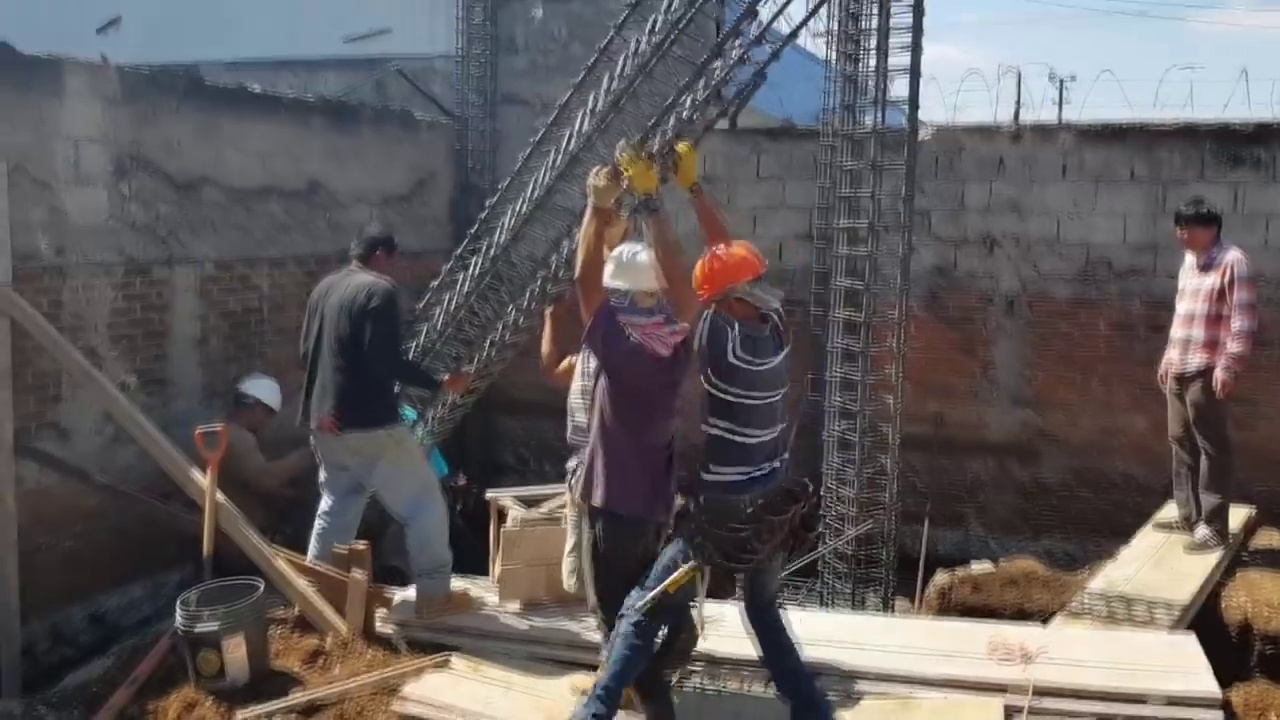helmet: (692, 240, 769, 306), (603, 240, 663, 290), (228, 380, 282, 424)
helmet-off: (348, 216, 404, 283), (1180, 198, 1230, 260)
helmet-on: (691, 241, 778, 333), (601, 240, 679, 336), (213, 378, 284, 441)
person: (577, 236, 835, 720), (558, 158, 704, 720), (297, 213, 456, 623), (1155, 201, 1262, 576), (207, 373, 313, 528)
